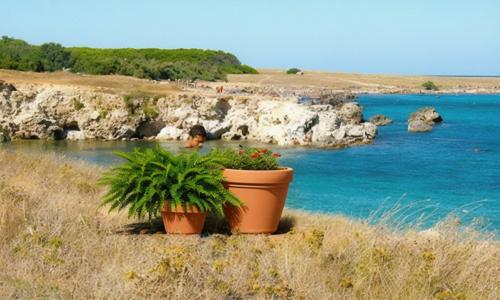person: (175, 124, 220, 234)
person/hand: (186, 204, 199, 216), (204, 185, 215, 196)
person/head: (187, 125, 205, 150)
pottedplant: (97, 147, 295, 234)
